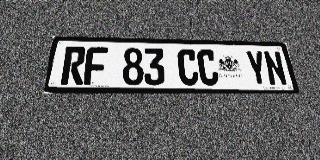3: (144, 48, 165, 85)
8: (122, 48, 143, 85)
C: (197, 49, 219, 86), (177, 49, 199, 85)
F: (83, 47, 107, 85)
N: (263, 51, 288, 86)
R: (60, 46, 86, 85)
Y: (244, 50, 269, 86)
